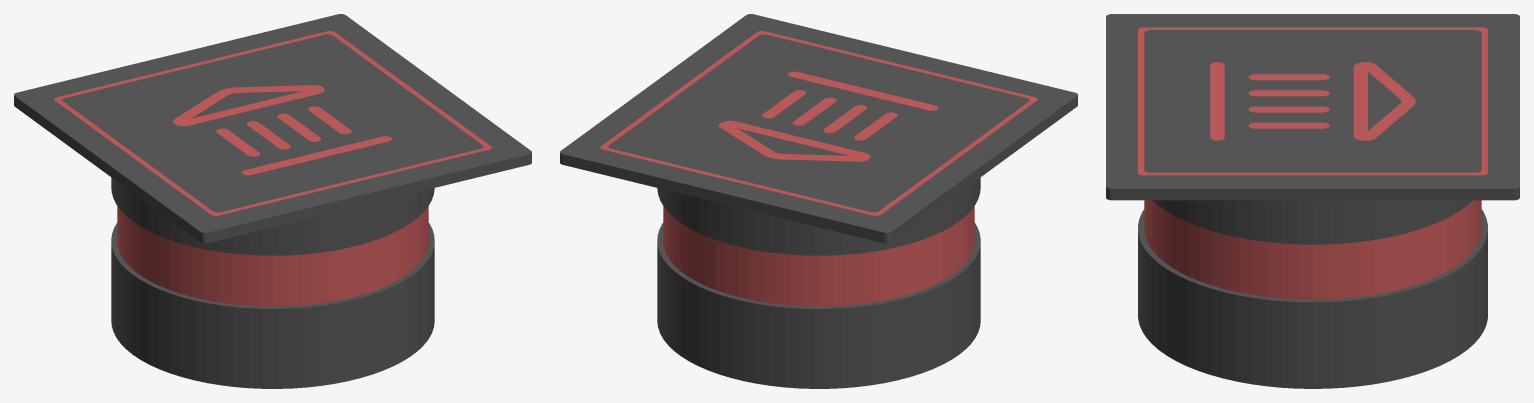
The model's file is bomboniera-scienze-politiche-facolta-montato.glb.
3 views of the same model, side by side, from view 1: azimuth 30°, elevation 25°; view 2: azimuth 150°, elevation 25°; view 3: azimuth 270°, elevation 25° (orthographic). The views are drawn at different scales.
Visible parts, largest first — view 1: struttura_coperchio, struttura_base, fascia, simbolo_intarsio, bordo; view 2: struttura_coperchio, struttura_base, fascia, simbolo_intarsio, bordo; view 3: struttura_coperchio, struttura_base, fascia, simbolo_intarsio, bordo.
Part boxes in pixels (<box>): struttura_coperchio: <box>14,14,531,255</box>; struttura_base: <box>111,223,434,388</box>; fascia: <box>117,206,428,306</box>; simbolo_intarsio: <box>173,85,392,175</box>; bordo: <box>54,31,491,215</box>; struttura_coperchio: <box>560,14,1077,255</box>; struttura_base: <box>657,223,980,388</box>; fascia: <box>663,206,974,306</box>; simbolo_intarsio: <box>719,71,938,161</box>; bordo: <box>600,31,1037,215</box>; struttura_coperchio: <box>1106,14,1519,244</box>; struttura_base: <box>1138,209,1487,388</box>; fascia: <box>1144,200,1481,299</box>; simbolo_intarsio: <box>1210,62,1415,140</box>; bordo: <box>1138,27,1487,175</box>.
Bounding box in the file's own units: 0.065 × 0.037 × 0.065.
